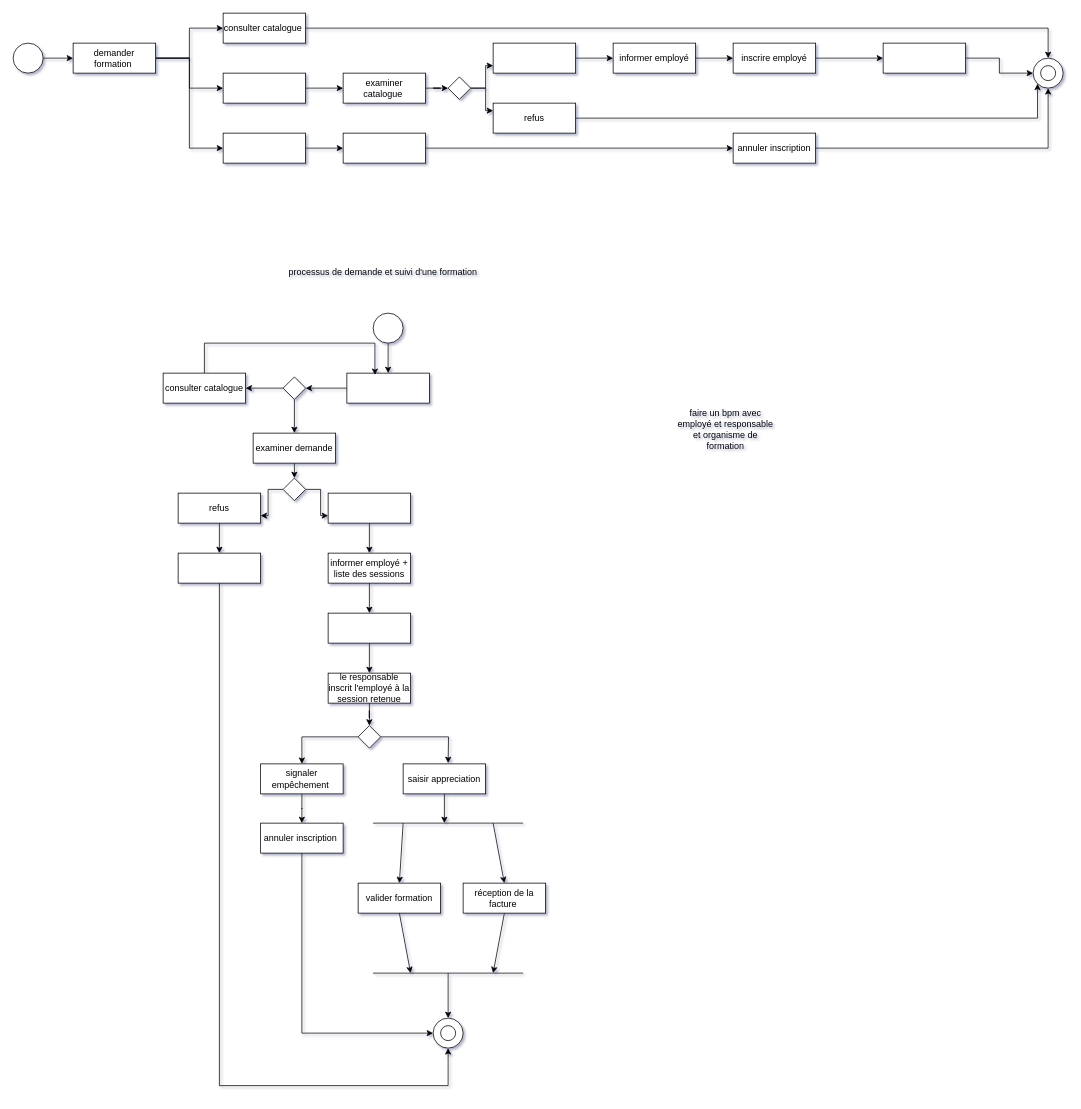
Image size: 1081x1109. Some labels were removed from this diagram. The shapes that lost their labels are listed below. From the top down, each one's centre as x and y in pixels, then its label:
At (x=534, y=57): "accord".
At (x=924, y=57): "valider formtion".
At (x=264, y=87): "demande examinée".
At (x=264, y=147): "empêchement".
At (x=384, y=147): "signaler".
At (x=387, y=387): "dépôt demande formation".
At (x=369, y=507): "acceptation".
At (x=219, y=567): "informer candidat".
At (x=369, y=627): "choix session".
